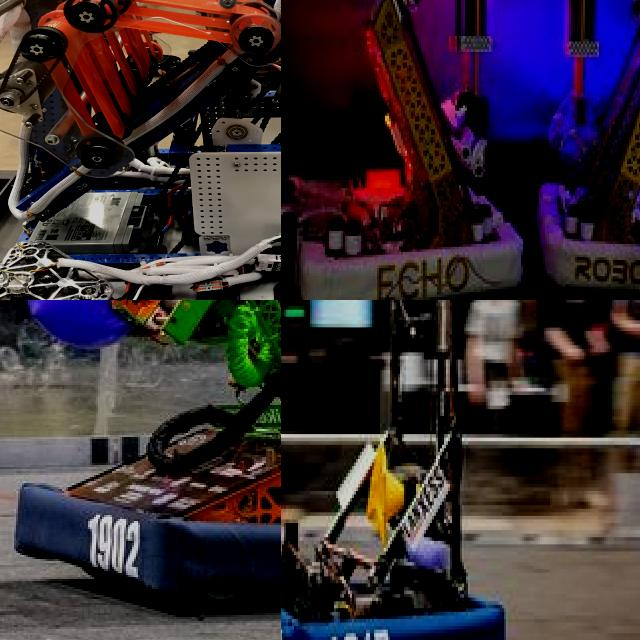FRC-Robots: (281, 300, 544, 640), (0, 300, 281, 605), (0, 0, 281, 300), (281, 0, 547, 300), (535, 0, 640, 300)
